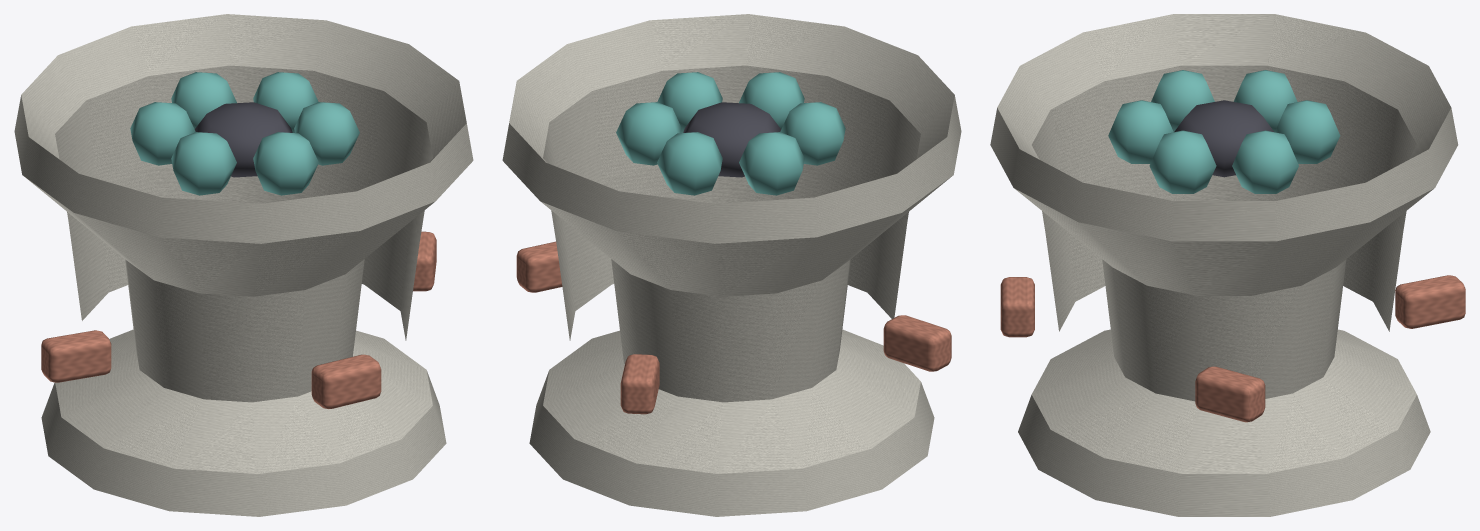
Rendered from jungle-temple-and-stone-city-offering-bowl-32c07b71__36133.glb.
3 renders of one model, left to right at view 1: azimuth 30°, elevation 25°; view 2: azimuth 150°, elevation 25°; view 3: azimuth 270°, elevation 25°, orthographic.
Parts seen in each view (by area): view 1: offering-bowl; view 2: offering-bowl; view 3: offering-bowl.
Boxes of the visible parts, x1,y1,x2,y2 form: offering-bowl: (14,14,473,516); offering-bowl: (502,14,961,516); offering-bowl: (990,14,1465,516).
Bounding box in the file's own units: 0.6933 × 0.53 × 0.6907.
Materials: 4 (2 with a texture image).
